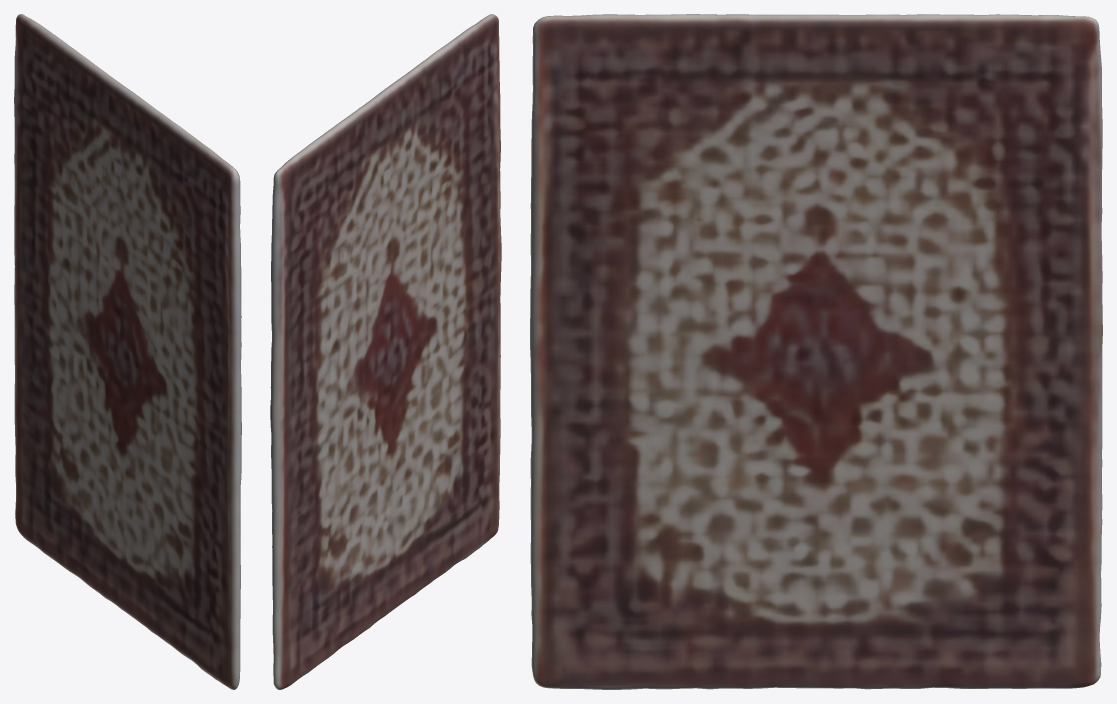
File: 2784beea9608_rug__3d_asset_0_glb.fbx
3 renders of one model, left to right at view 1: azimuth 30°, elevation 25°; view 2: azimuth 150°, elevation 25°; view 3: azimuth 270°, elevation 25°, orthographic. The views are drawn at different scales.
Visible parts, largest first — view 1: mesh; view 2: mesh; view 3: mesh.
Part boxes in pixels (x1,y1,x2,y2): mesh: (14,14,241,689); mesh: (270,14,501,689); mesh: (530,14,1102,689).
Size of the model in its own units: 2.63 by 99.83 by 76.73.
